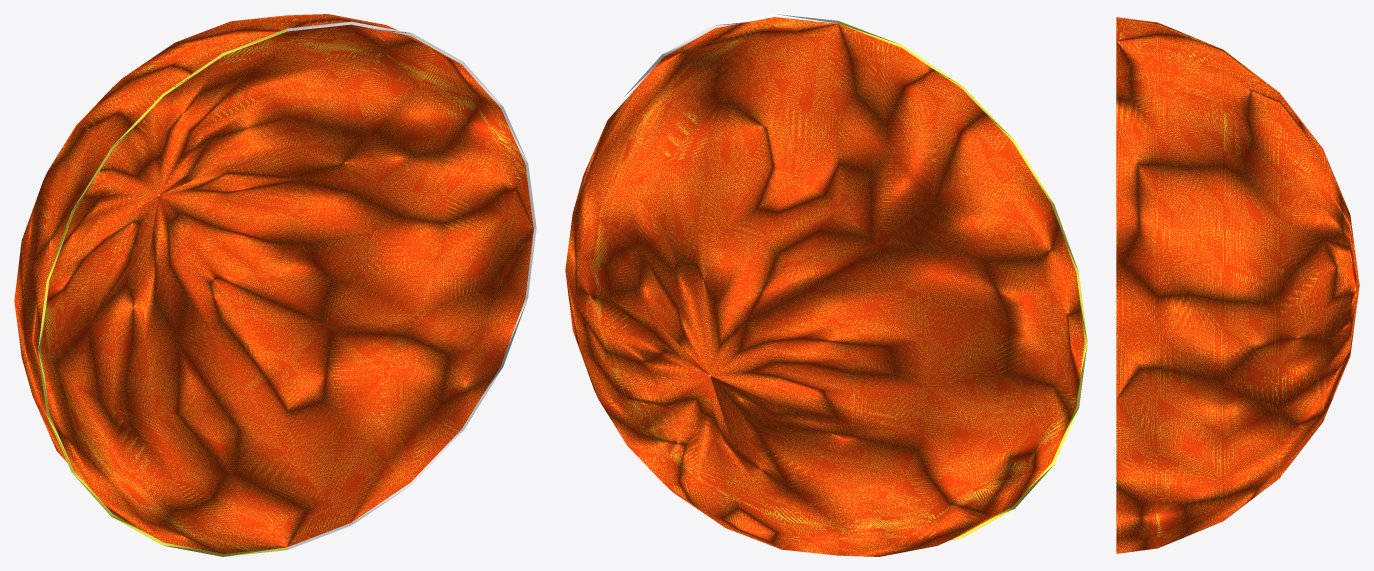
Rendered from model_align.obj.
3 views of the same model, side by side, from view 1: azimuth 30°, elevation 25°; view 2: azimuth 150°, elevation 25°; view 3: azimuth 270°, elevation 25° (orthographic). The views are drawn at different scales.
Bounding box in the file's own units: 0.1422 × 0.1422 × 0.0635.
